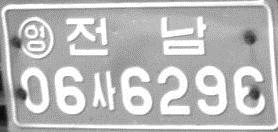0: (19, 66, 50, 114)
2: (156, 65, 191, 115)
6: (232, 65, 265, 116), (53, 65, 85, 115), (120, 66, 152, 115)
9: (193, 65, 227, 115)
사: (90, 70, 116, 111)
영: (17, 15, 54, 60)
전남_D: (65, 15, 207, 57)
